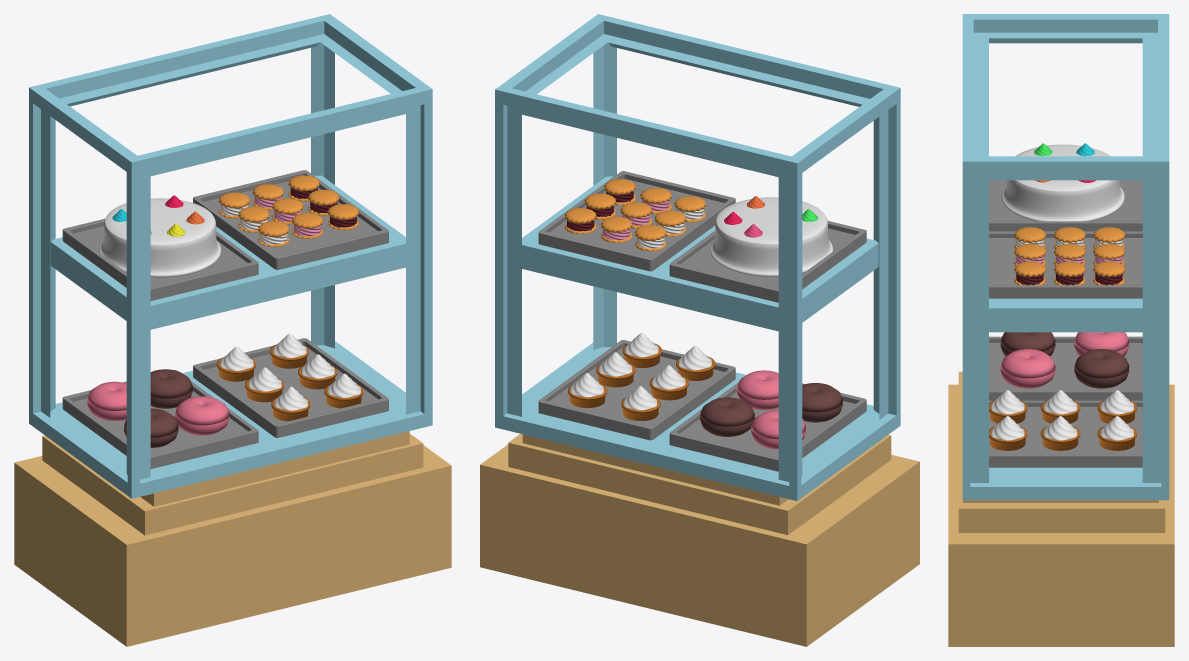
The model's file is dessert_shelf.fbx.
The picture shows the model from 3 angles, left to right: view 1: azimuth 30°, elevation 25°; view 2: azimuth 150°, elevation 25°; view 3: azimuth 270°, elevation 25°; orthographic projection.
Visible parts, largest first — view 1: Cube.002, Cube, Cube.012, Cube.010, Cylinder.047, Cube.013, Cube.011, Torus.001, Torus, Torus.002, Torus.003; view 2: Cube.002, Cube, Cube.012, Cube.010, Cylinder.047, Cube.013, Cube.011, Torus, Torus.001, Torus.003, Torus.002; view 3: Cube.002, Cube, Cube.010, Cube.012, Cylinder.047, Cube.013, Cube.011, Torus.001, Torus, Torus.003, Torus.002, Cylinder.039 (+20 smaller).
Part boxes in pixels (left/top/right/bottom): Cube.002: left=29, top=14, right=432, bottom=498; Cube: left=14, top=431, right=451, bottom=646; Cube.012: left=193, top=338, right=388, bottom=437; Cube.010: left=193, top=170, right=388, bottom=269; Cylinder.047: left=99, top=198, right=221, bottom=277; Cube.013: left=62, top=370, right=258, bottom=468; Cube.011: left=62, top=218, right=258, bottom=300; Torus.001: left=175, top=396, right=229, bottom=435; Torus: left=150, top=369, right=192, bottom=408; Torus.002: left=87, top=381, right=126, bottom=421; Torus.003: left=124, top=408, right=178, bottom=447; Cube.002: left=495, top=14, right=900, bottom=501; Cube: left=480, top=433, right=919, bottom=646; Cube.012: left=538, top=340, right=735, bottom=440; Cube.010: left=538, top=171, right=735, bottom=271; Cylinder.047: left=710, top=197, right=832, bottom=276; Cube.013: left=669, top=382, right=866, bottom=471; Cube.011: left=669, top=221, right=866, bottom=302; Torus: left=700, top=397, right=754, bottom=436; Torus.001: left=736, top=370, right=778, bottom=409; Torus.003: left=802, top=383, right=842, bottom=422; Torus.002: left=751, top=410, right=806, bottom=449; Cube.002: left=962, top=14, right=1169, bottom=500; Cube: left=948, top=371, right=1174, bottom=646; Cube.010: left=989, top=231, right=1142, bottom=298; Cube.012: left=989, top=400, right=1142, bottom=467; Cylinder.047: left=1001, top=144, right=1124, bottom=221; Cube.013: left=989, top=336, right=1142, bottom=400; Cube.011: left=989, top=180, right=1142, bottom=231; Torus.001: left=1000, top=349, right=1055, bottom=388; Torus: left=1074, top=349, right=1129, bottom=388; Torus.003: left=1000, top=332, right=1055, bottom=355; Torus.002: left=1074, top=332, right=1129, bottom=356; Cylinder.039: left=1043, top=416, right=1077, bottom=440.
Bounding box in the file's own units: 100 × 140 × 60.
